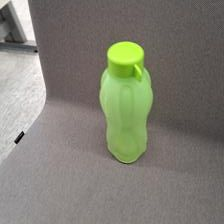bottle: (101, 39, 153, 164)
